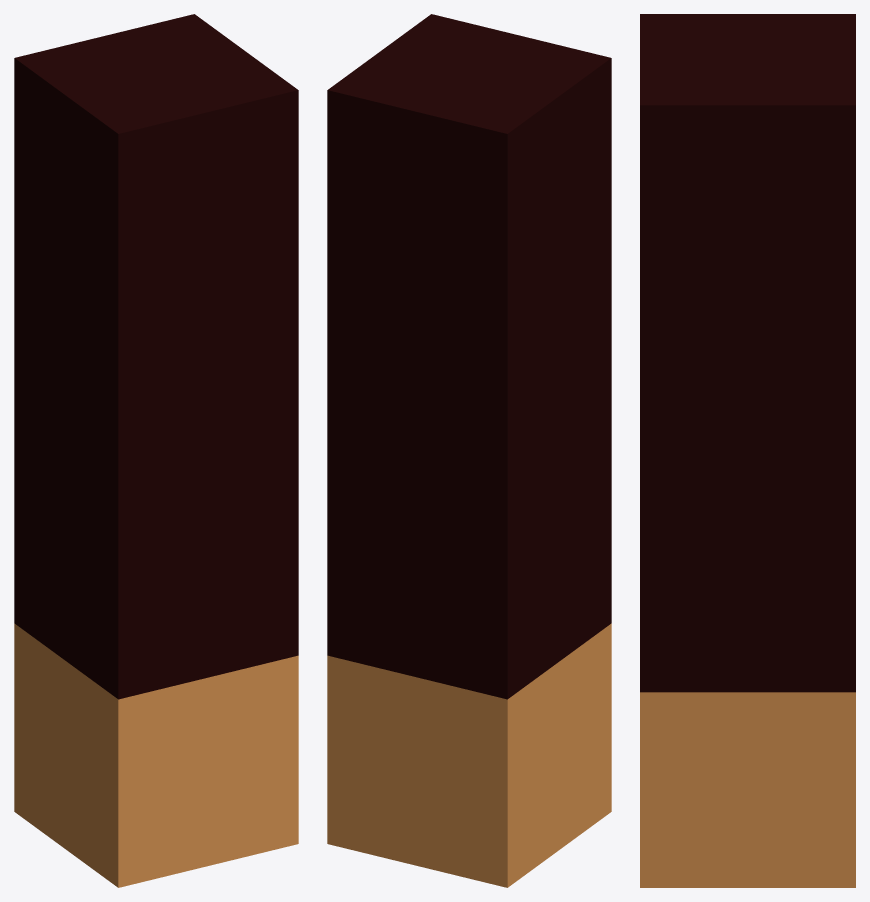
Rendered from fabianArm.obj.
The picture shows the model from 3 angles, left to right: view 1: azimuth 30°, elevation 25°; view 2: azimuth 150°, elevation 25°; view 3: azimuth 270°, elevation 25°; orthographic projection. The views are drawn at different scales.
Bounding box in the file's own units: 1 × 4 × 1.
1 material, 1 textured.
